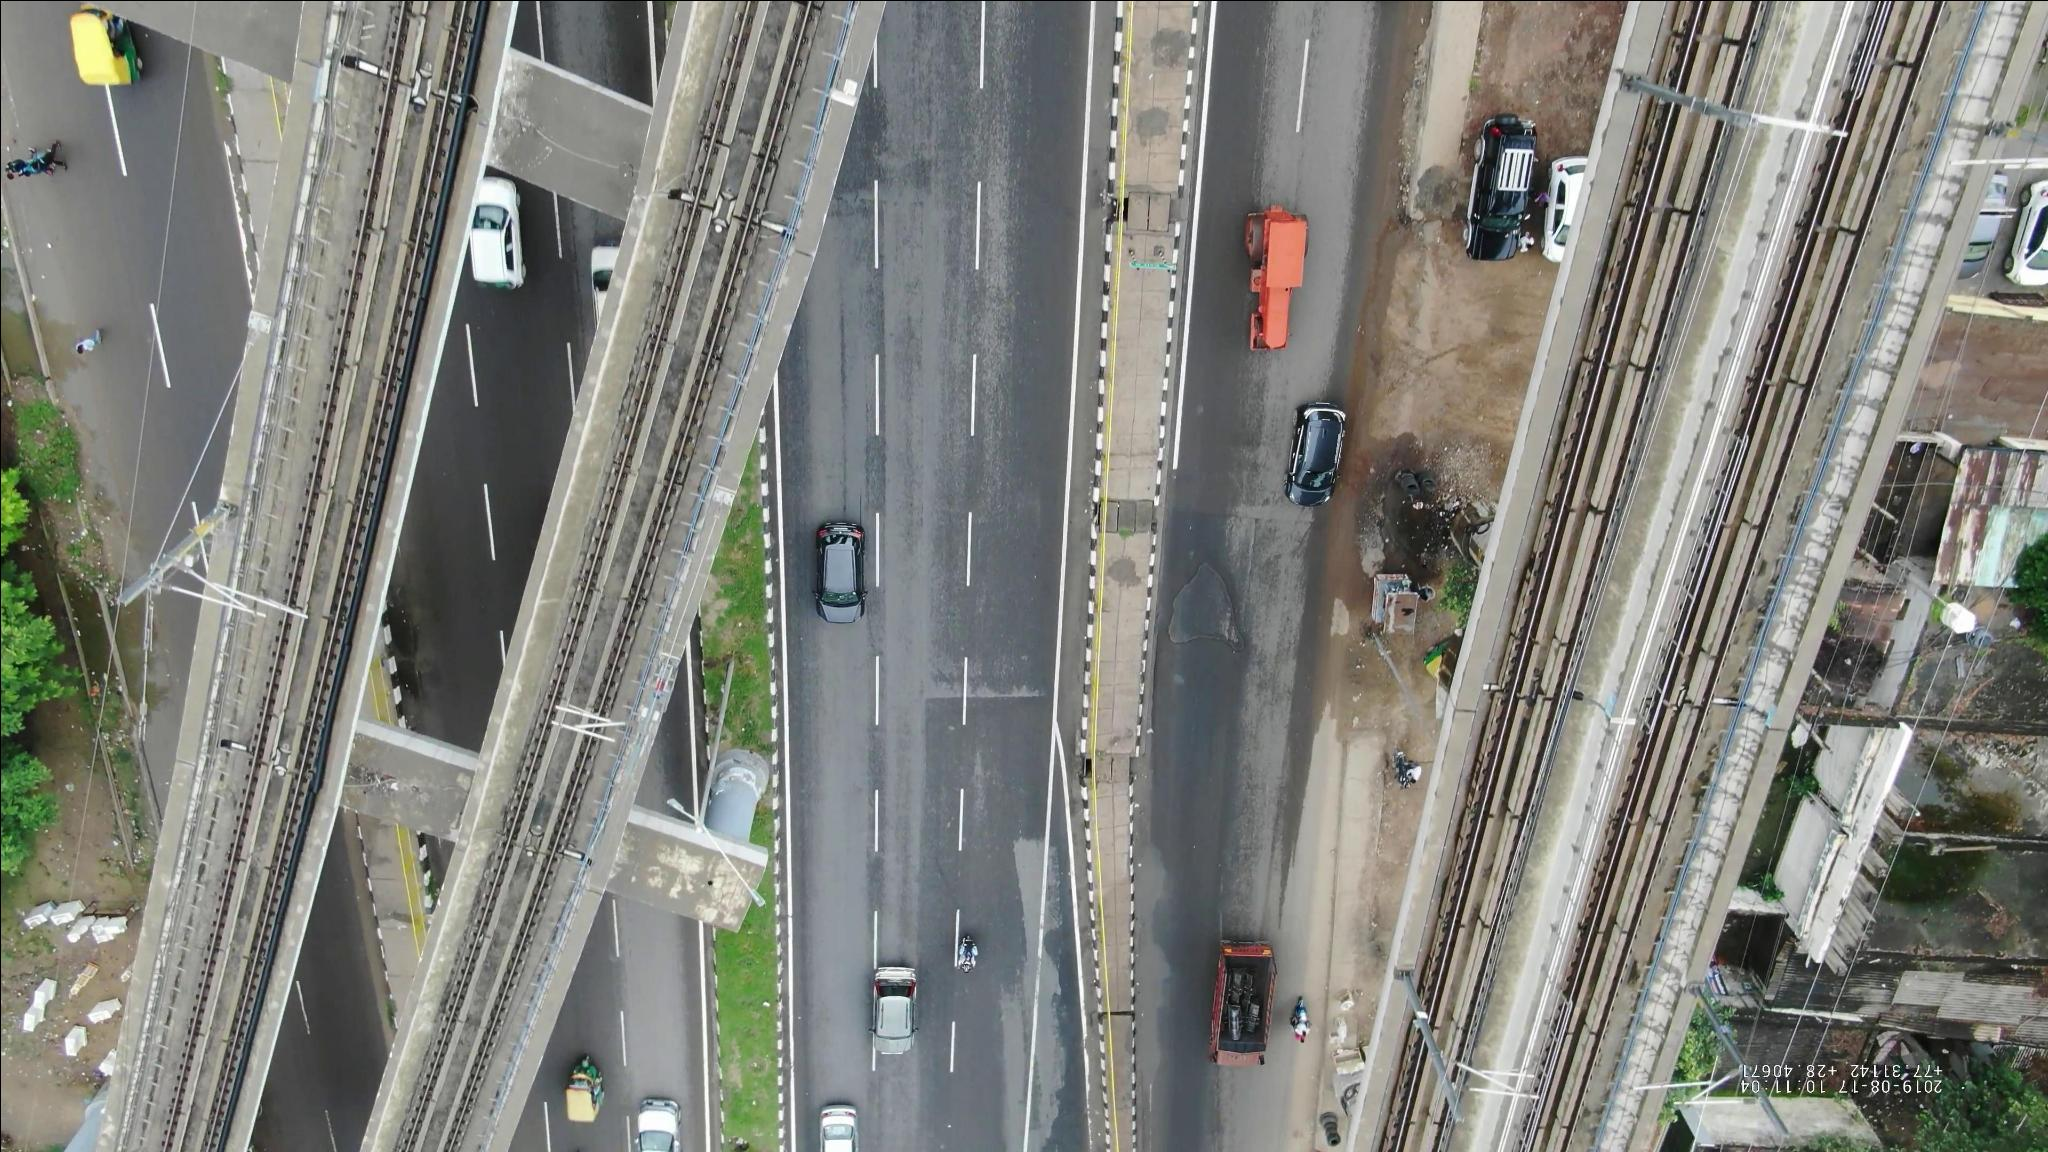Potholes: (1165, 554, 1260, 664)
